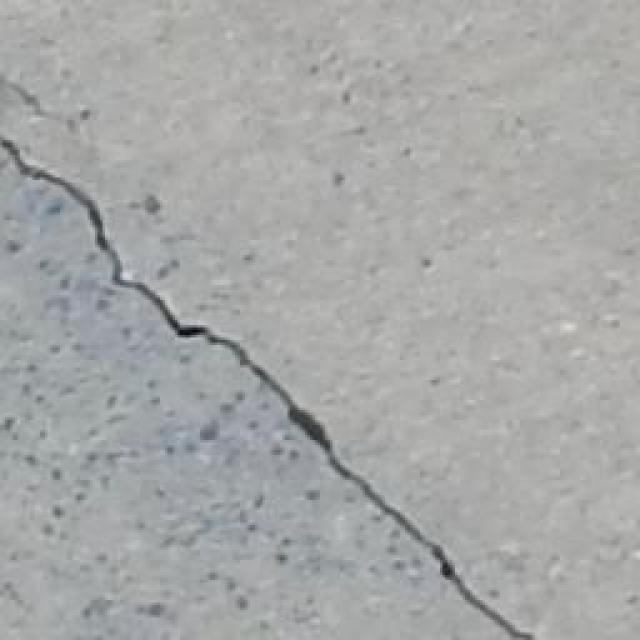concrete-crack: (0, 130, 535, 640)
